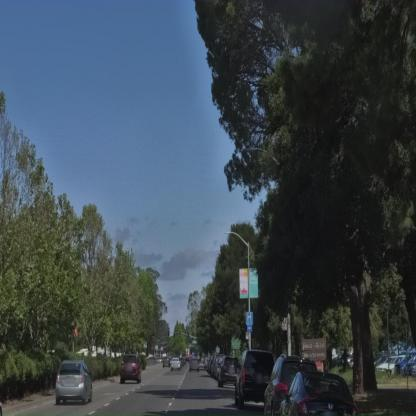car: (274, 367, 362, 416), (262, 354, 322, 416), (234, 351, 274, 409), (56, 361, 94, 405), (218, 357, 240, 389), (376, 356, 410, 375), (119, 356, 140, 384), (401, 356, 416, 378), (170, 357, 182, 370)
